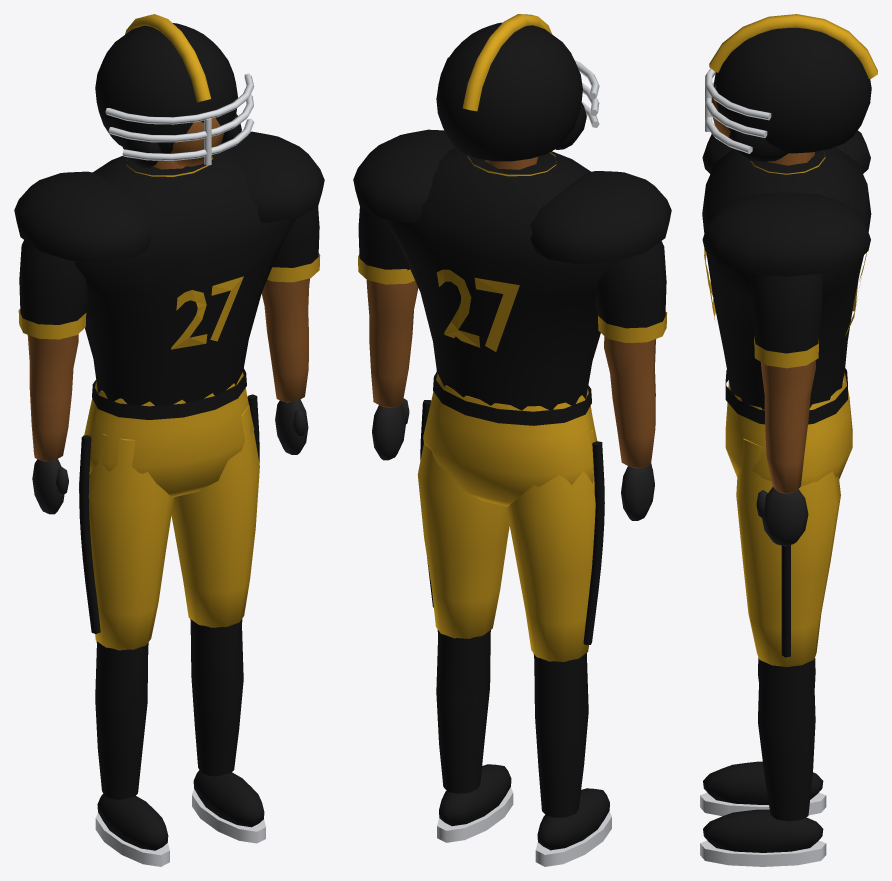
The picture shows the model from 3 angles, left to right: view 1: azimuth 30°, elevation 25°; view 2: azimuth 150°, elevation 25°; view 3: azimuth 270°, elevation 25°; orthographic projection. The views are drawn at different scales.
Parts seen in each view (by area): view 1: player_L3; view 2: player_L3; view 3: player_L3.
Part boxes in pixels (x1=…): player_L3: x1=14, y1=14, x2=324, y2=866; player_L3: x1=353, y1=14, x2=671, y2=866; player_L3: x1=700, y1=14, x2=877, y2=866.
Size of the model in its own units: 0.732 by 1.91 by 0.3768.
